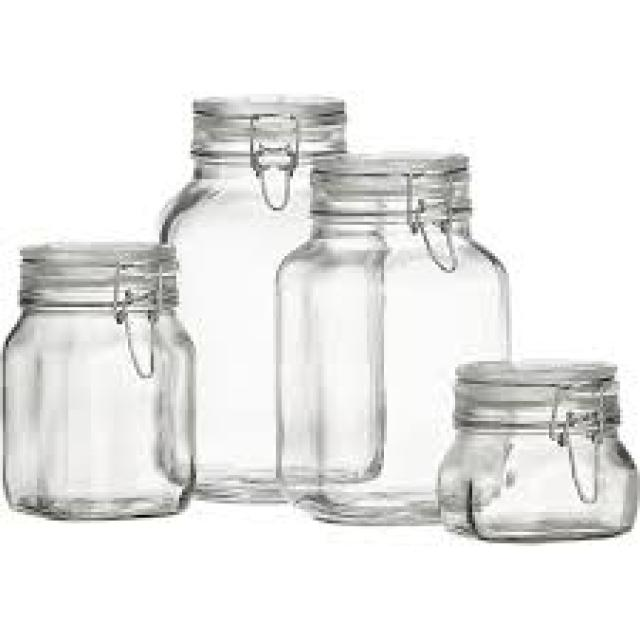glass: (276, 151, 509, 523), (157, 100, 376, 492), (0, 244, 193, 514), (433, 361, 635, 538)
